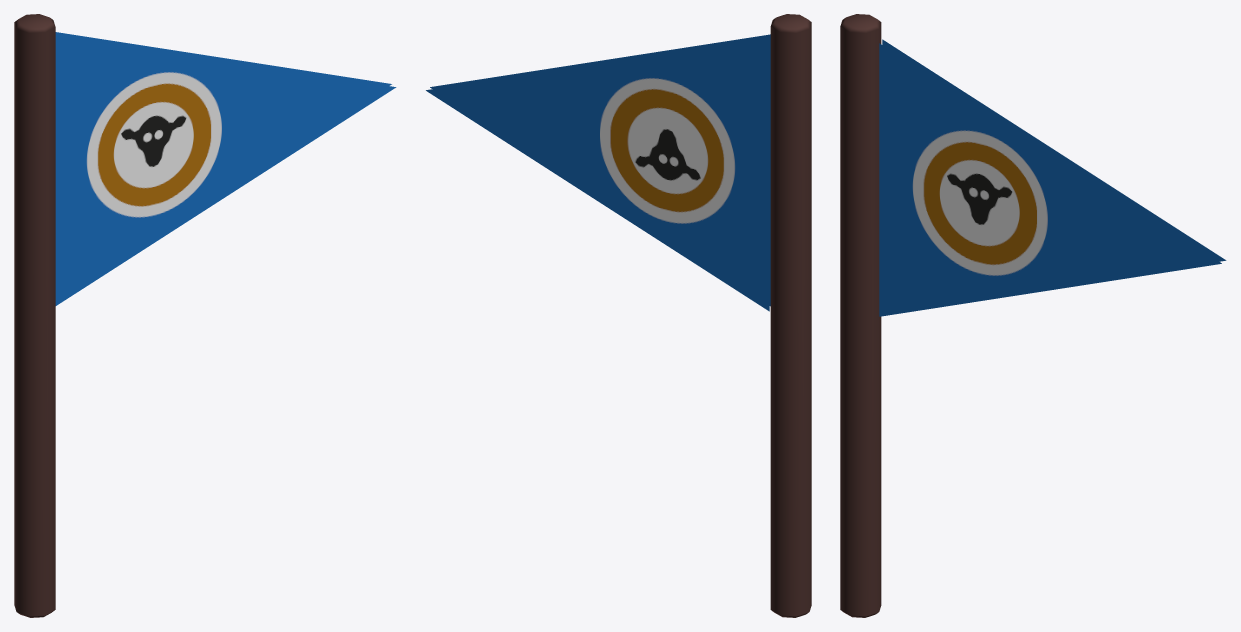
The model's file is cuu_flag.fbx.
3 renders of one model, left to right at view 1: azimuth 30°, elevation 25°; view 2: azimuth 150°, elevation 25°; view 3: azimuth 330°, elevation 25°, orthographic.
Visible parts, largest first — view 1: Cuu_flag; view 2: Cuu_flag; view 3: Cuu_flag.
Boxes of the visible parts, x1,y1,x2,y2 form: Cuu_flag: (14, 14, 396, 617); Cuu_flag: (426, 14, 811, 617); Cuu_flag: (840, 14, 1226, 617).
Bounding box in the file's own units: 149 × 222 × 14.51.
